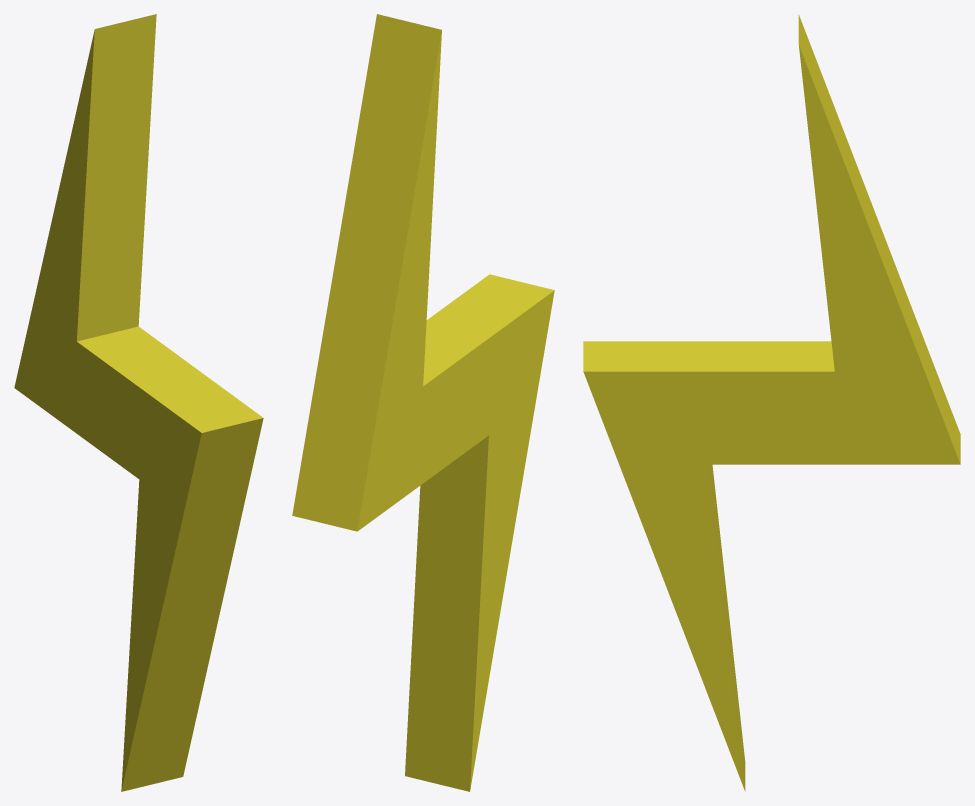
Rendered from SpeedPowerUp.fbx.
3 views of the same model, side by side, from view 1: azimuth 30°, elevation 25°; view 2: azimuth 150°, elevation 25°; view 3: azimuth 270°, elevation 25° (orthographic). The views are drawn at different scales.
Visible parts, largest first — view 1: Cube.001; view 2: Cube.001; view 3: Cube.001.
Part boxes in pixels (x1,y1,x2,y2): Cube.001: [14, 14, 263, 791]; Cube.001: [292, 14, 554, 791]; Cube.001: [583, 14, 960, 791].
Size of the model in its own units: 5.96 by 68.49 by 31.31.
